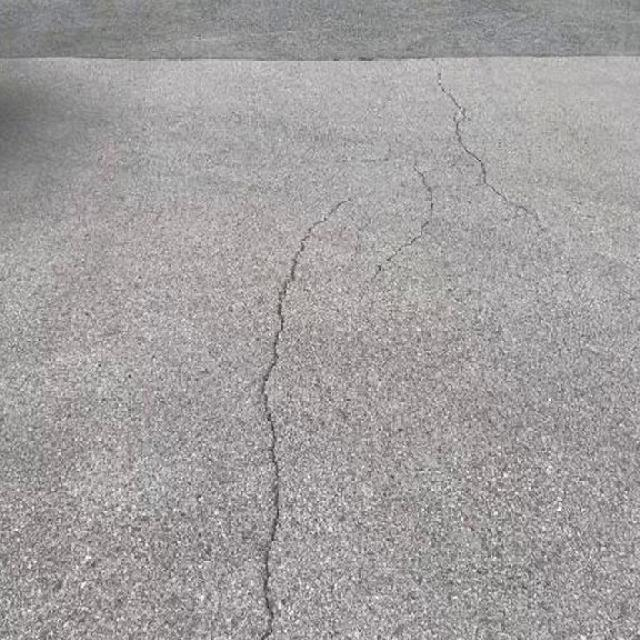Melintang: (3, 41, 640, 73)
Memanjang: (244, 199, 358, 640), (426, 73, 553, 236)
